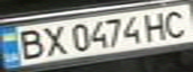0: (66, 20, 90, 52)
4: (121, 12, 148, 45), (87, 18, 109, 50)
7: (103, 16, 127, 47)
B: (9, 26, 48, 61)
C: (157, 7, 193, 39)
H: (139, 9, 175, 42)
X: (36, 24, 69, 56)
